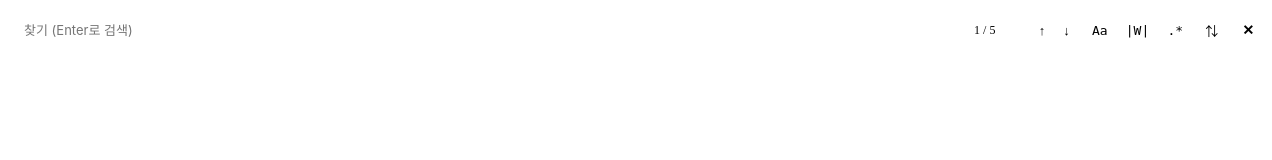
Scenario: SearchBar › Replace Functionality › should hide replace UI when toggled off
Click the button named "바꾸기 토글" at (1212, 30), box [1197, 16, 1226, 44]
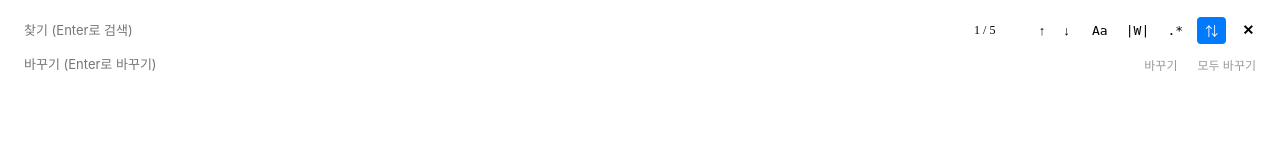
expect the field with placeholder "바꾸기 (Enter로 바꾸기)" is shown: met, box [16, 50, 1146, 78]
Click the button named "바꾸기 토글" at (1212, 30), box [1197, 16, 1226, 44]
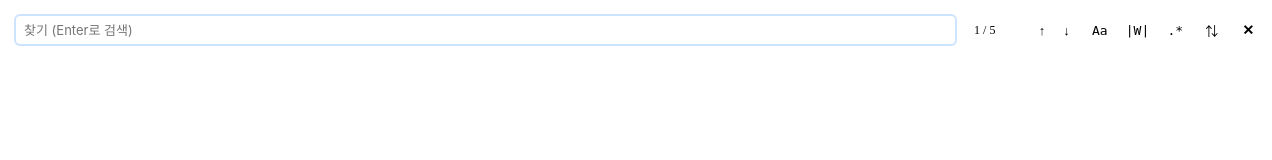
expect the button with placeholder "바꾸기" is gone: met
